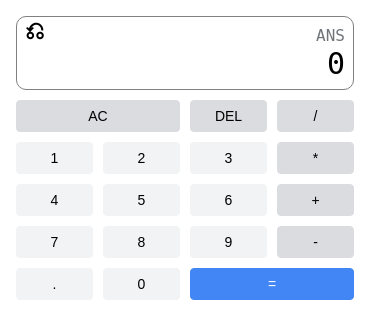
it: Current operation correctly changes after click
Click the button "1": coordinates (54, 158) [16, 142, 93, 174]
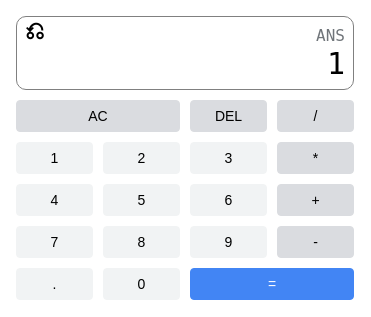
Click the button "+": coordinates (316, 200) [277, 184, 354, 216]
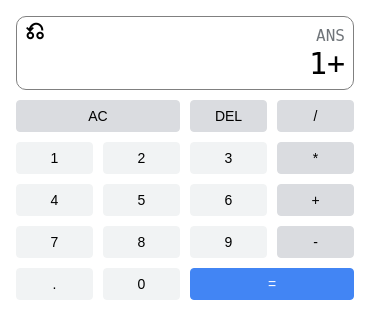
Click the button "2": coordinates (142, 158) [103, 142, 180, 174]
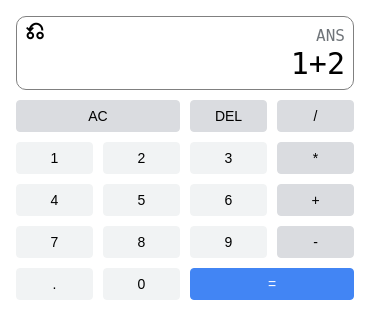
Now the text with test id "current-operation" reads "1+2", box [291, 46, 345, 80]
